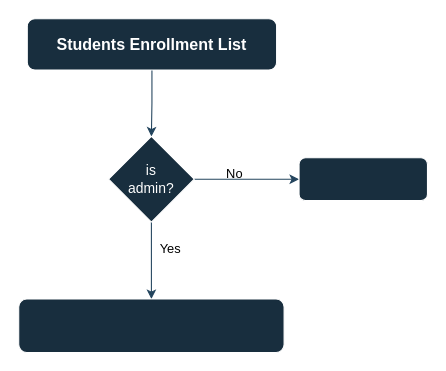
Image size: 446x371. Some labels were removed from this diagram. The shapes that lost their labels are listed below. From the top down, each one's box as (x1, y1, x2, y2) in pixels, then its label:
(298, 157, 427, 201): Invalid user
(18, 298, 284, 353): Enrollment List of all students
